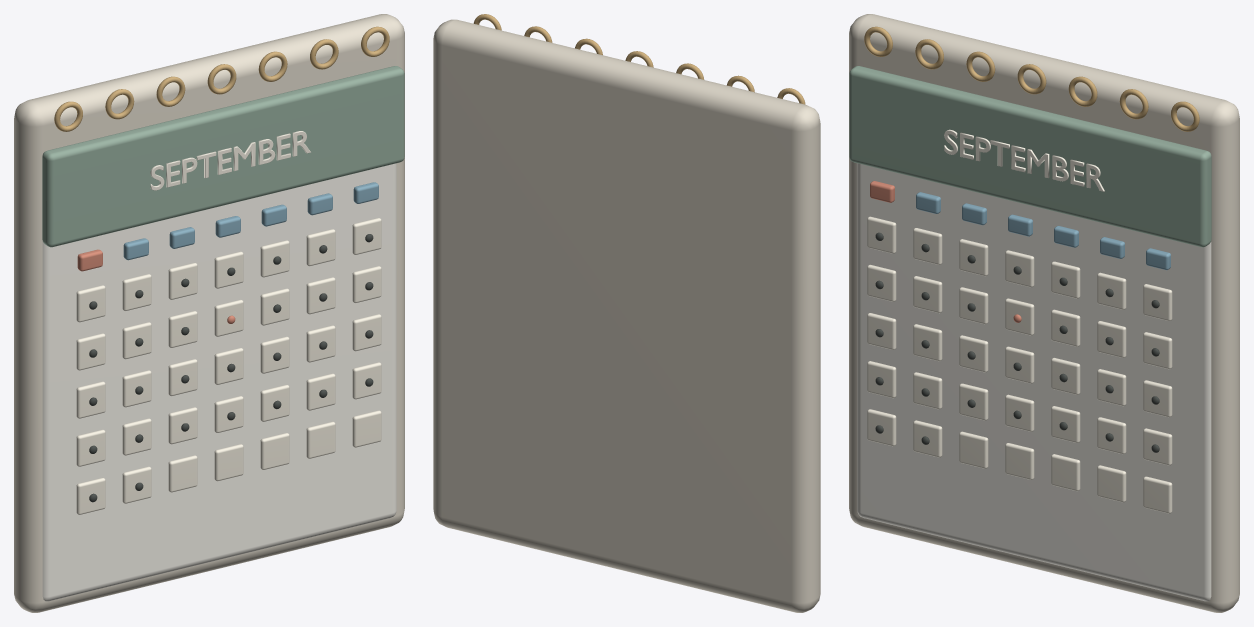
File: calendar.glb
3 views of the same model, side by side, from view 1: azimuth 30°, elevation 25°; view 2: azimuth 150°, elevation 25°; view 3: azimuth 330°, elevation 25° (orthographic).
Parts seen in each view (by area): view 1: Calendar page, Backing.001, Header block, Month title, Date cell.030, Date cell.031, Date cell.032, Date cell.033, Date cell.034, Date cell.007, Date cell.008, Date cell.019 (+27 smaller); view 2: Backing.001; view 3: Calendar page, Backing.001, Header block, Month title, Date cell.032, Date cell.033, Date cell.030, Date cell.031, Date cell.034, Date cell.013, Date cell.016, Date cell.015 (+27 smaller).
Part boxes in pixels (x1=…): Calendar page: x1=42, y1=163, x2=396, y2=601; Backing.001: x1=14, y1=14, x2=404, y2=612; Header block: x1=42, y1=66, x2=404, y2=247; Month title: x1=150, y1=131, x2=311, y2=190; Date cell.030: x1=168, y1=455, x2=197, y2=492; Date cell.031: x1=214, y1=444, x2=243, y2=481; Date cell.032: x1=260, y1=433, x2=289, y2=469; Date cell.033: x1=306, y1=421, x2=335, y2=458; Date cell.034: x1=352, y1=410, x2=381, y2=447; Date cell.007: x1=76, y1=333, x2=105, y2=370; Date cell.008: x1=122, y1=322, x2=151, y2=359; Date cell.019: x1=306, y1=325, x2=335, y2=362; Backing.001: x1=433, y1=19, x2=820, y2=612; Calendar page: x1=857, y1=163, x2=1211, y2=601; Backing.001: x1=849, y1=14, x2=1239, y2=612; Header block: x1=849, y1=66, x2=1211, y2=247; Month title: x1=944, y1=129, x2=1104, y2=191; Date cell.032: x1=1051, y1=454, x2=1080, y2=491; Date cell.033: x1=1097, y1=465, x2=1126, y2=502; Date cell.030: x1=959, y1=431, x2=988, y2=468; Date cell.031: x1=1005, y1=443, x2=1034, y2=479; Date cell.034: x1=1143, y1=476, x2=1172, y2=513; Date cell.013: x1=1143, y1=332, x2=1172, y2=369; Date cell.016: x1=959, y1=335, x2=988, y2=372; Date cell.015: x1=913, y1=324, x2=942, y2=361.
Size of the model in its own units: 0.3 by 0.383 by 0.049.
